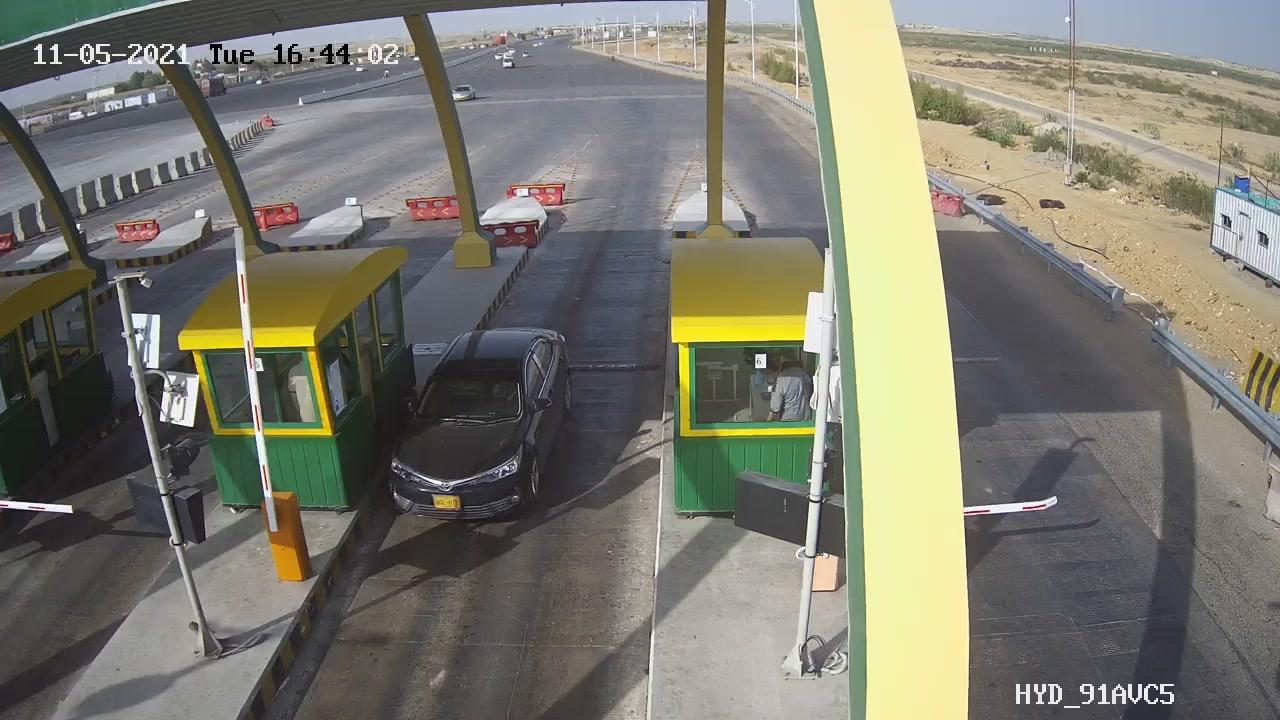F1: (350, 308, 602, 547)
